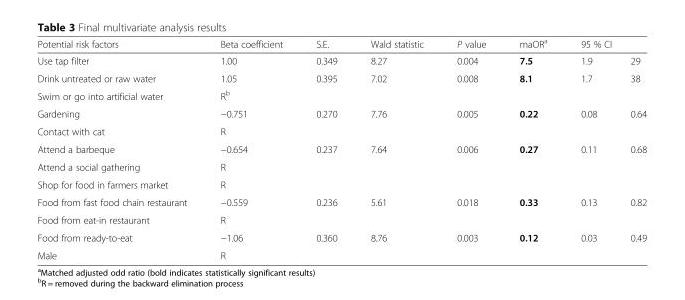table: (36, 36, 646, 260)
table column: (36, 36, 203, 260), (203, 36, 298, 260), (353, 36, 439, 260), (439, 36, 502, 260), (502, 36, 563, 260), (298, 36, 353, 260), (563, 36, 613, 260), (613, 36, 646, 260)
table column header: (36, 36, 646, 69)
table row: (36, 51, 646, 69), (36, 86, 646, 104), (36, 104, 646, 122), (36, 139, 646, 157), (36, 157, 646, 175), (36, 192, 646, 210), (36, 210, 646, 228), (36, 228, 646, 246), (36, 69, 646, 86), (36, 122, 646, 139), (36, 175, 646, 192), (36, 36, 646, 51), (36, 246, 646, 260)
table spanning cell: (36, 36, 203, 69), (203, 36, 298, 69), (353, 36, 439, 69), (439, 36, 502, 69), (502, 36, 563, 69), (298, 36, 353, 69), (563, 36, 646, 51)
